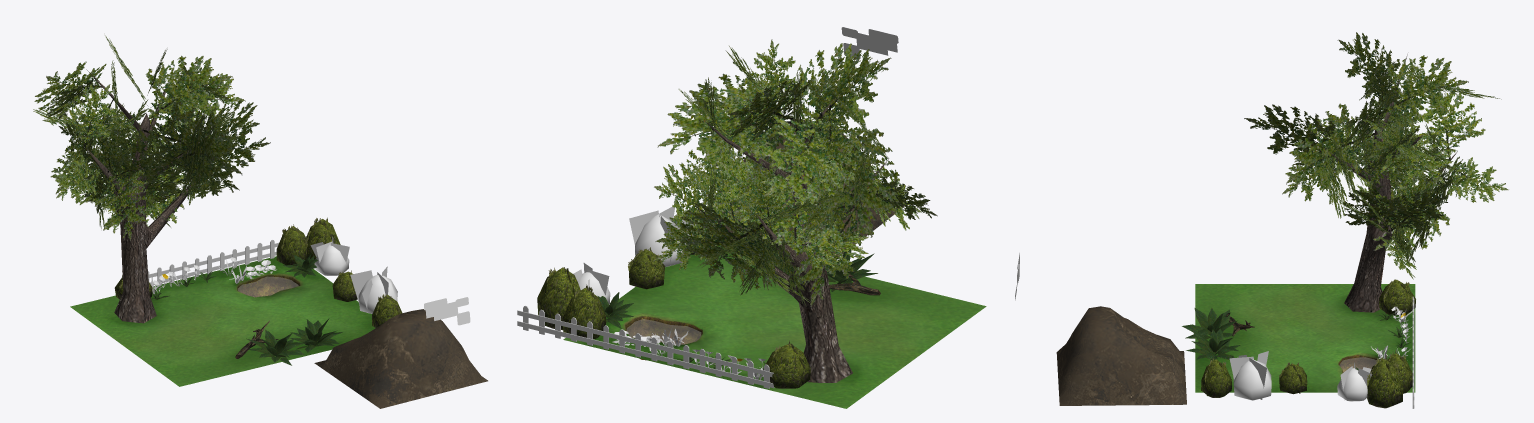
The model's file is overlay blender scene.fbx.
3 views of the same model, side by side, from view 1: azimuth 30°, elevation 25°; view 2: azimuth 150°, elevation 25°; view 3: azimuth 270°, elevation 25° (orthographic). The views are drawn at different scales.
Parts seen in each view (by area): view 1: tree normal, ground garden, rock, fence, scrub round.003, scrub round.001, scrub round tall.001, Fern new.003, demo UI, Fern new.002, water, scrub round tall.003 (+3 smaller); view 2: tree normal, ground garden, fence, scrub round.003, scrub round.002, scrub round tall.003, scrub round tall.001, scrub round.004, rock, demo UI, water, scrub round.001 (+3 smaller); view 3: tree normal, ground garden, rock, scrub round.003, scrub round tall.003, scrub round.002, scrub round.001, scrub round tall.002, Fern new.002, Fern new.003, scrub round.004, scrub round tall.001.
Boxes of the visible parts, x1=… form: tree normal: x1=33, y1=35, x2=270, y2=323; ground garden: x1=70, y1=256, x2=375, y2=386; rock: x1=314, y1=309, x2=487, y2=408; fence: x1=148, y1=233, x2=307, y2=285; scrub round.003: x1=350, y1=266, x2=397, y2=313; scrub round.001: x1=310, y1=236, x2=349, y2=275; scrub round tall.001: x1=276, y1=224, x2=307, y2=265; Fern new.003: x1=246, y1=329, x2=306, y2=365; demo UI: x1=424, y1=297, x2=470, y2=325; Fern new.002: x1=289, y1=318, x2=342, y2=352; water: x1=238, y1=276, x2=298, y2=296; scrub round tall.003: x1=306, y1=217, x2=340, y2=263; tree normal: x1=653, y1=39, x2=937, y2=382; ground garden: x1=563, y1=245, x2=986, y2=408; fence: x1=517, y1=305, x2=774, y2=388; scrub round.003: x1=629, y1=207, x2=693, y2=266; scrub round.002: x1=763, y1=340, x2=810, y2=388; scrub round tall.003: x1=537, y1=267, x2=580, y2=330; scrub round tall.001: x1=562, y1=284, x2=605, y2=338; scrub round.004: x1=628, y1=247, x2=665, y2=289; rock: x1=704, y1=119, x2=904, y2=257; demo UI: x1=841, y1=27, x2=898, y2=59; water: x1=627, y1=319, x2=700, y2=344; scrub round.001: x1=573, y1=263, x2=610, y2=303; tree normal: x1=1244, y1=32, x2=1508, y2=312; ground garden: x1=1195, y1=284, x2=1415, y2=392; rock: x1=1056, y1=306, x2=1186, y2=405; scrub round.003: x1=1229, y1=351, x2=1271, y2=400; scrub round tall.003: x1=1367, y1=355, x2=1403, y2=408; scrub round.002: x1=1379, y1=279, x2=1415, y2=315; scrub round.001: x1=1337, y1=362, x2=1372, y2=401; scrub round tall.002: x1=1201, y1=358, x2=1231, y2=397; Fern new.002: x1=1186, y1=328, x2=1240, y2=360; Fern new.003: x1=1182, y1=308, x2=1237, y2=342; scrub round.004: x1=1279, y1=362, x2=1307, y2=394; scrub round tall.001: x1=1387, y1=350, x2=1412, y2=393.
Size of the model in its own units: 1502 by 1345 by 2109.
